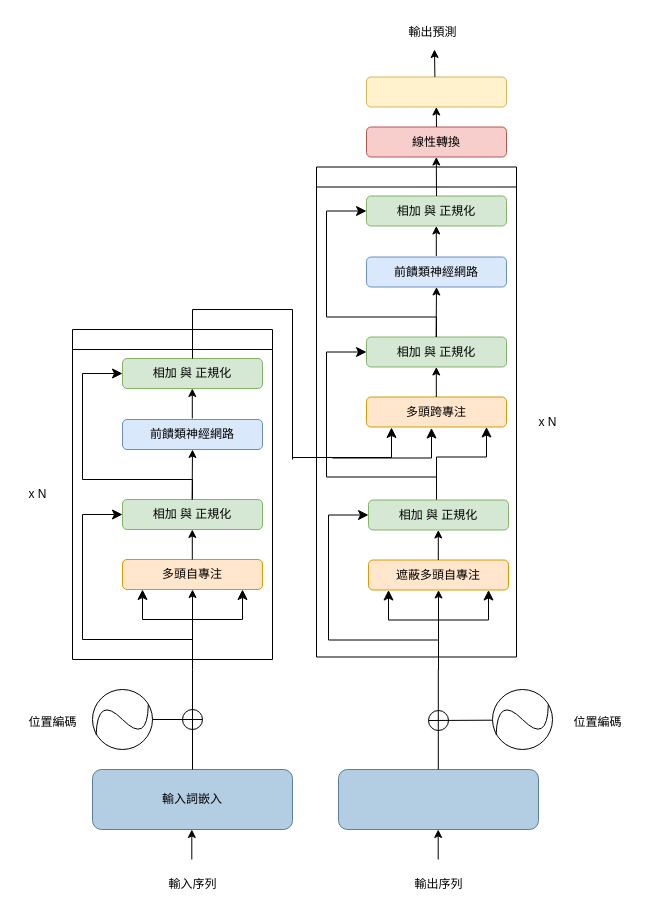
Image size: 649x916. Some labels were removed from this diagram. The box of each missing label's shape, as (x1, y1, x2, y2) in pixels:
正規化指數函數: (366, 76, 506, 107)
編碼層: (72, 328, 272, 660)
解碼層: (316, 166, 516, 657)
輸出詞嵌入: (338, 768, 538, 830)
